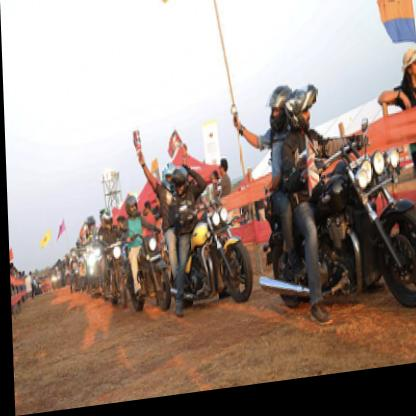With Helmet: (169, 166, 188, 207)
